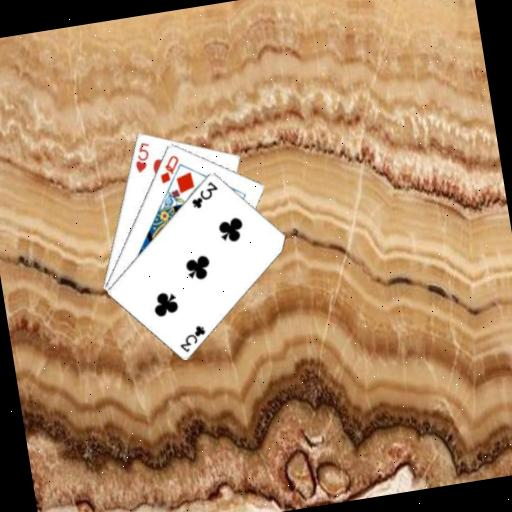3C: (185, 177, 221, 211), (174, 320, 210, 354)
5H: (129, 138, 154, 174)
QD: (153, 150, 183, 185)
